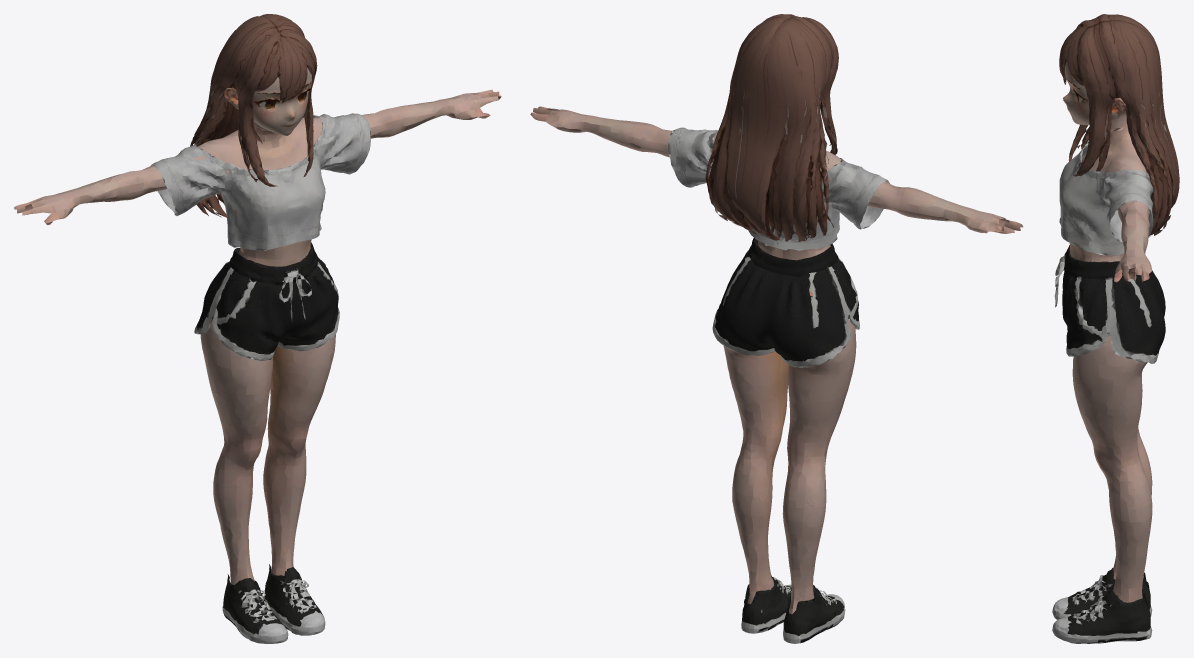
The model's file is original-character.v1.glb.
3 renders of one model, left to right at view 1: azimuth 30°, elevation 25°; view 2: azimuth 150°, elevation 25°; view 3: azimuth 270°, elevation 25°, orthographic.
Visible parts, largest first — view 1: original; view 2: original; view 3: original.
Boxes of the visible parts, x1,y1,x2,y2 form: original: (14, 14, 501, 643); original: (530, 14, 1023, 643); original: (1052, 14, 1179, 643).
Bounding box in the file's own units: 1.46 × 1.74 × 0.3303.
Materials: 6 (6 with a texture image).
